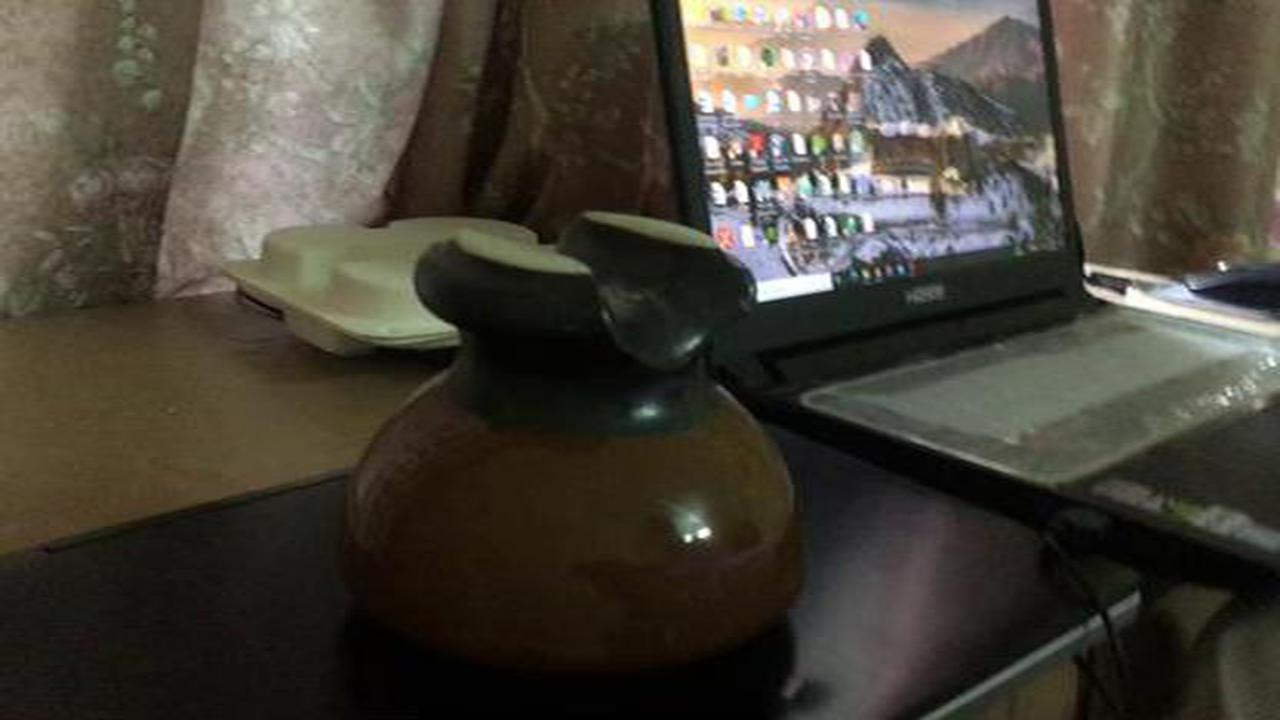insulator_pin: (324, 200, 822, 672)
